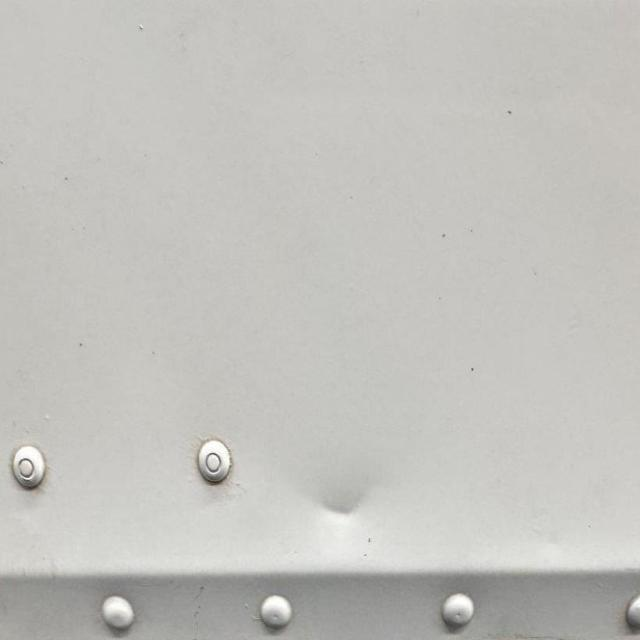Dent: (310, 464, 373, 529)
